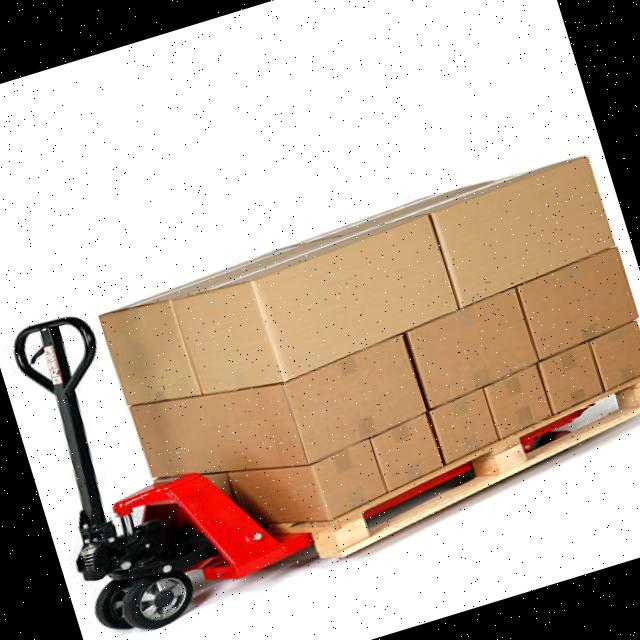Wooden-Pallets: (293, 370, 640, 578)
